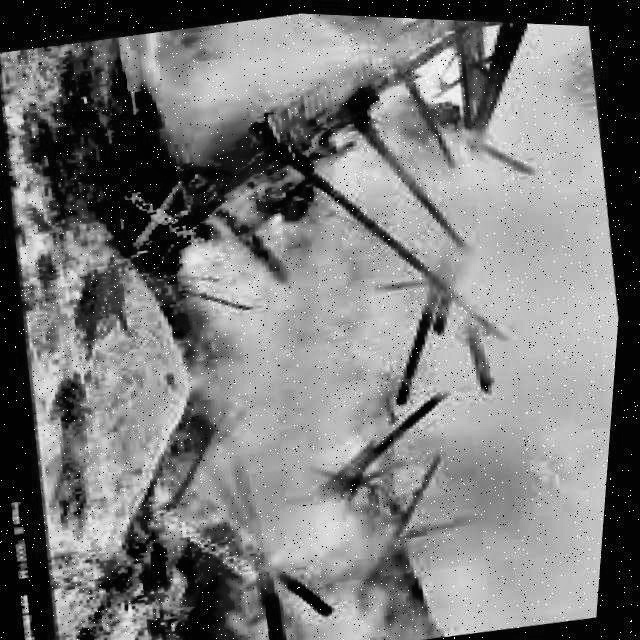Smoke: (89, 4, 623, 640)
